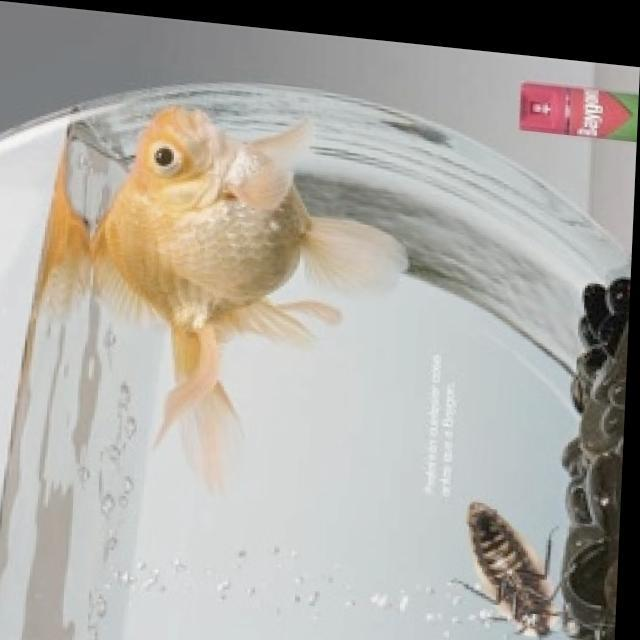cockroach: (438, 462, 594, 640)
